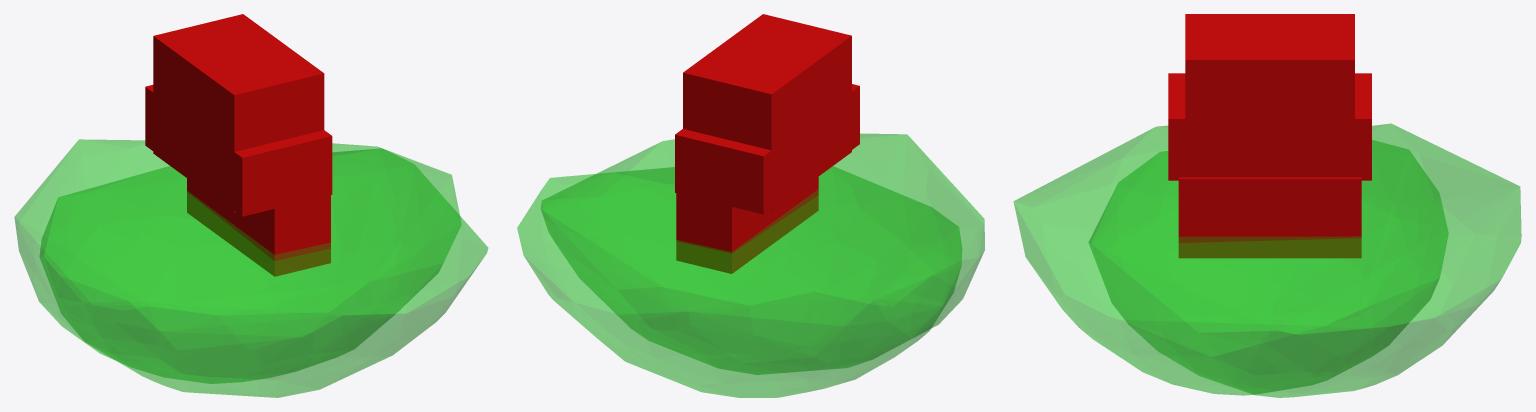
File: talos_trunk_lower_visual.dae
3 views of the same model, side by side, from view 1: azimuth 30°, elevation 25°; view 2: azimuth 150°, elevation 25°; view 3: azimuth 270°, elevation 25° (orthographic). The views are drawn at different scales.
Visible parts, largest first — view 1: Talos_Rleg_Rom, Talos_Lleg_Rom, Talos_Trunk_Lower; view 2: Talos_Lleg_Rom, Talos_Rleg_Rom, Talos_Trunk_Lower; view 3: Talos_Lleg_Rom, Talos_Rleg_Rom, Talos_Trunk_Lower.
Boxes of the visible parts, <box> form: Talos_Rleg_Rom: <box>39,148,488,397</box>; Talos_Lleg_Rom: <box>14,139,461,383</box>; Talos_Trunk_Lower: <box>145,14,332,276</box>; Talos_Lleg_Rom: <box>517,166,961,397</box>; Talos_Rleg_Rom: <box>540,133,984,374</box>; Talos_Trunk_Lower: <box>675,14,859,273</box>; Talos_Lleg_Rom: <box>1088,123,1521,397</box>; Talos_Rleg_Rom: <box>1013,125,1448,395</box>; Talos_Trunk_Lower: <box>1168,14,1371,258</box>.
Size of the model in its own units: 1.44 by 1.5 by 1.07.
